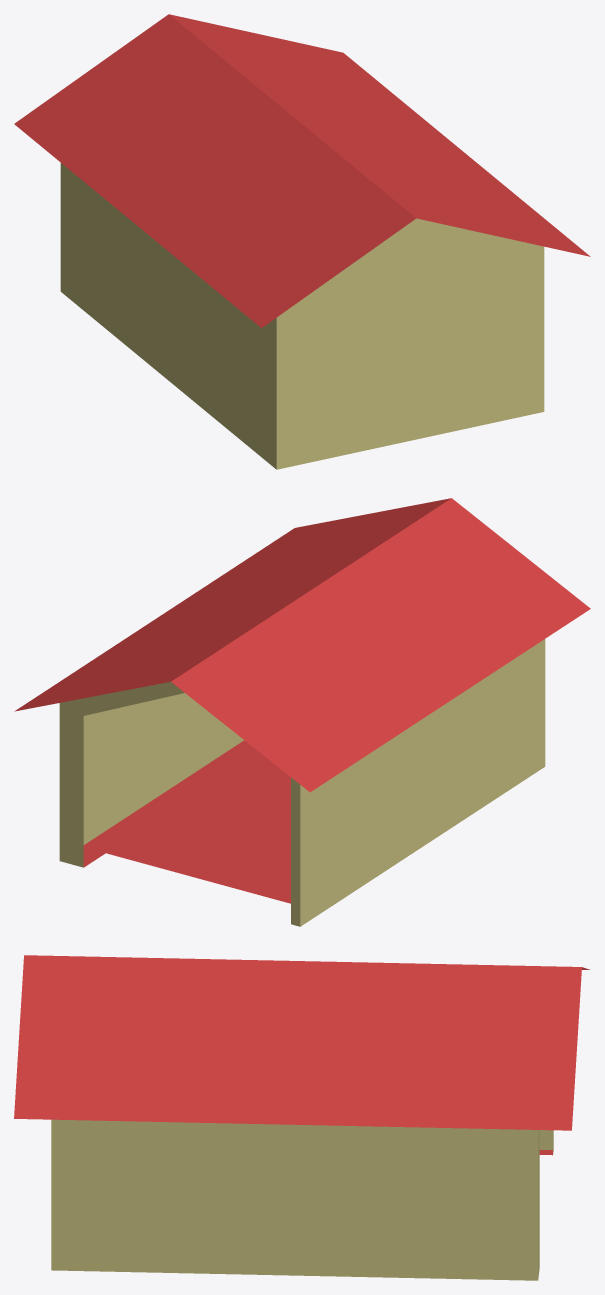
3 renders of one model, top to bottom at view 1: azimuth 30°, elevation 25°; view 2: azimuth 150°, elevation 25°; view 3: azimuth 270°, elevation 25°, orthographic. The views are drawn at different scales.
Size of the model in its own units: 17.2 by 24.31 by 11.36.
